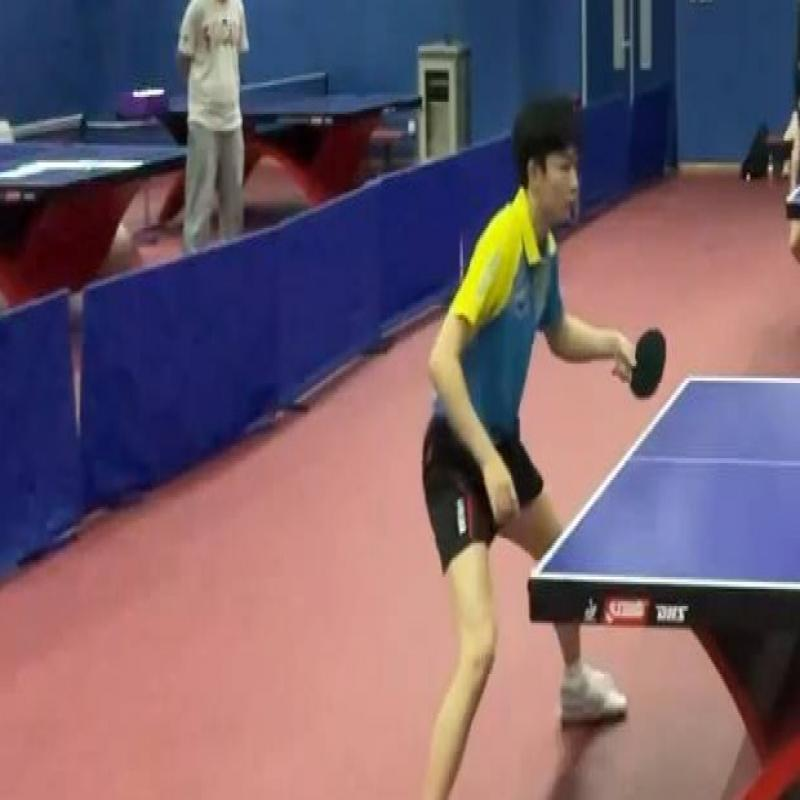bats: (619, 298, 675, 424)
